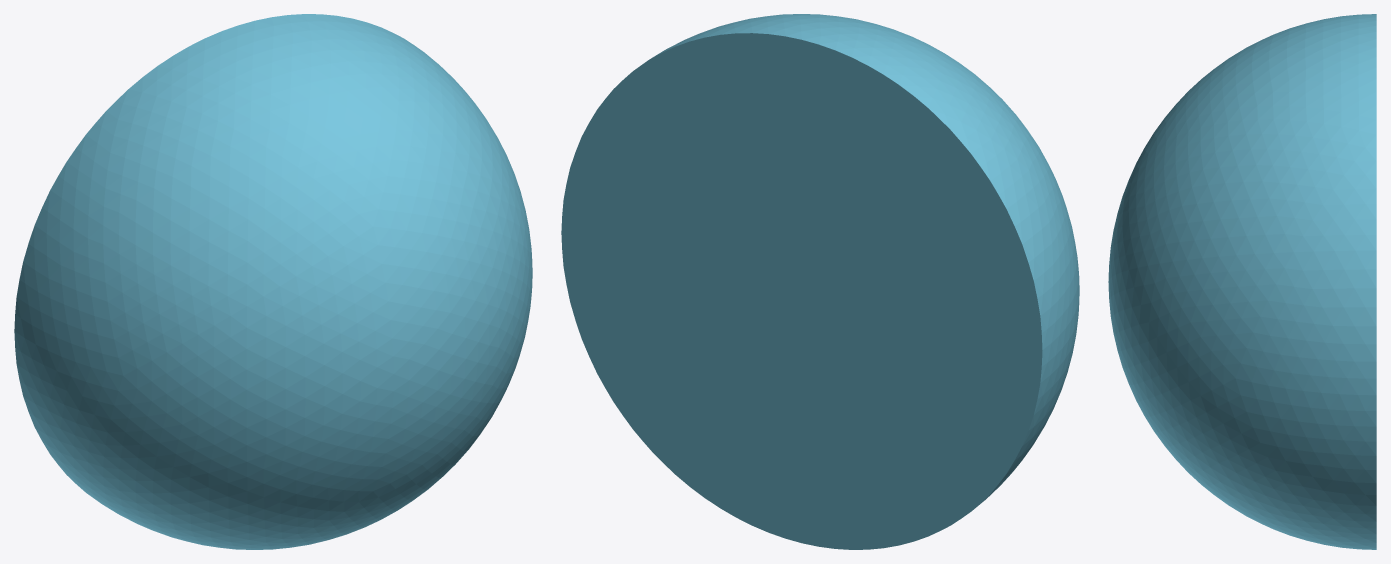
The model's file is directed_holes_demo.glb.
3 renders of one model, left to right at view 1: azimuth 30°, elevation 25°; view 2: azimuth 150°, elevation 25°; view 3: azimuth 270°, elevation 25°, orthographic. The views are drawn at different scales.
Parts seen in each view (by area): view 1: perforated_dome; view 2: perforated_dome; view 3: perforated_dome.
Part boxes in pixels (bbox=[...]): perforated_dome: bbox=[14, 14, 532, 549]; perforated_dome: bbox=[561, 14, 1079, 549]; perforated_dome: bbox=[1108, 14, 1376, 549].
Bounding box in the file's own units: 32 × 32 × 16.
